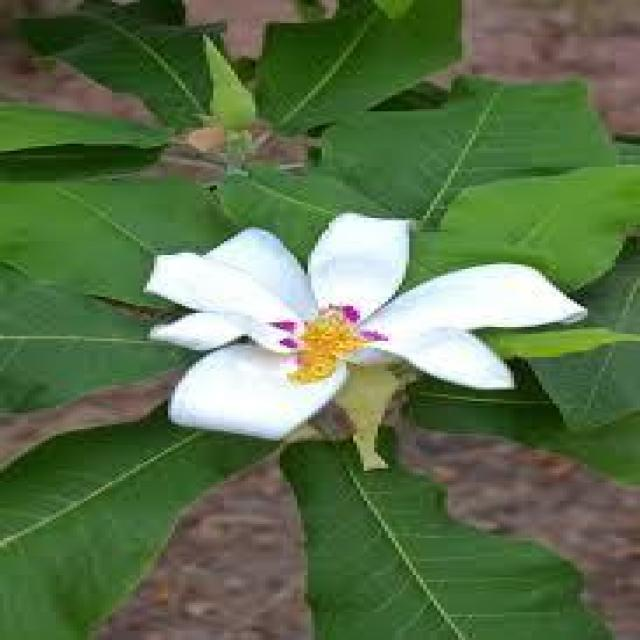organic waste: (122, 220, 591, 459)
